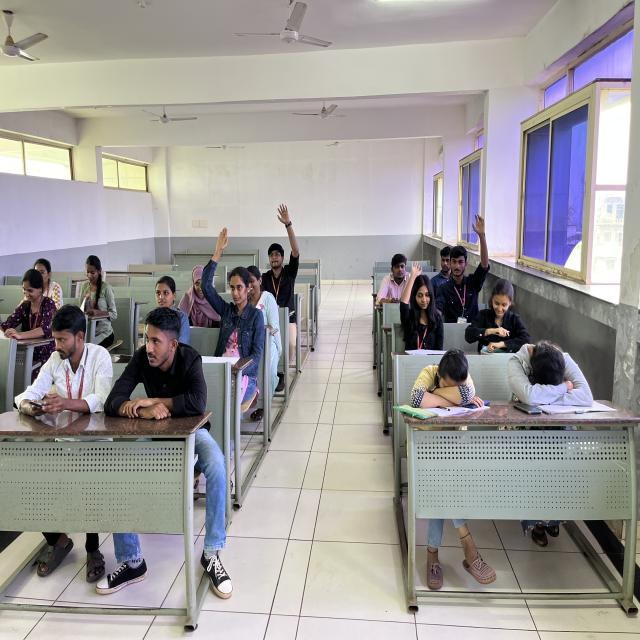Hand Rising: (191, 222, 259, 352), (434, 209, 496, 316), (252, 196, 308, 304), (394, 260, 449, 346)
Reading: (68, 239, 121, 322)
Sleeping: (507, 314, 594, 404), (406, 334, 482, 423)
Using Phone: (18, 300, 106, 424)
